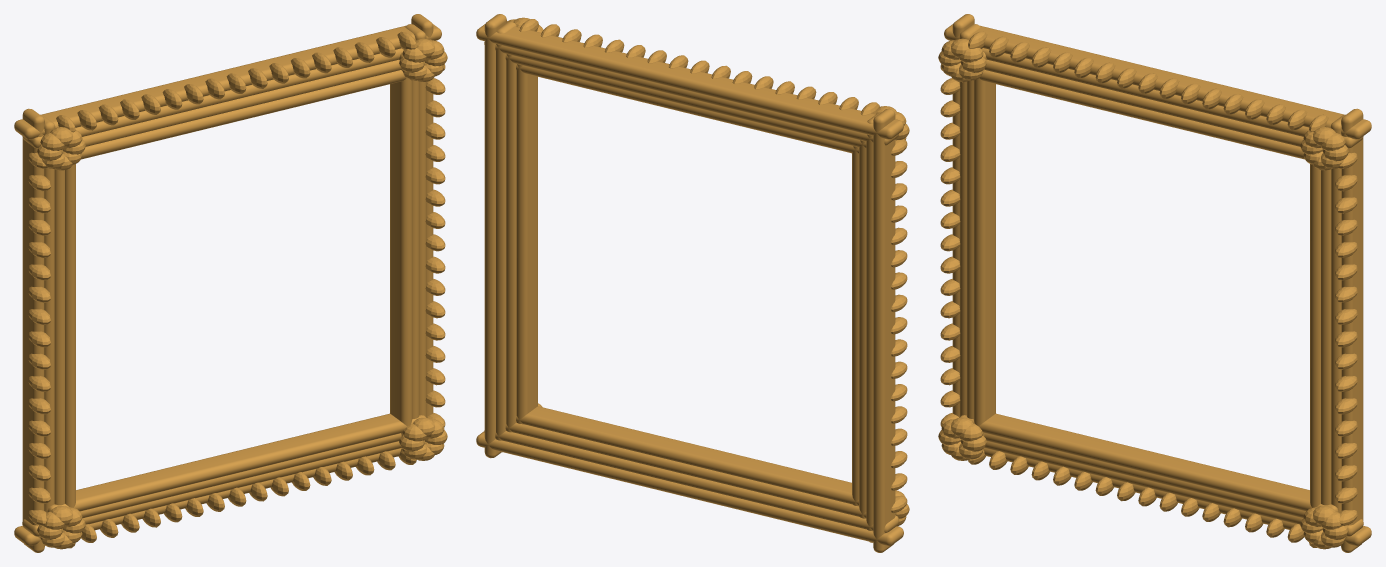
The model's file is portal-frame.glb.
The picture shows the model from 3 angles, left to right: view 1: azimuth 30°, elevation 25°; view 2: azimuth 150°, elevation 25°; view 3: azimuth 330°, elevation 25°; orthographic projection.
Visible parts, largest first — view 1: Sculpted frame upright.001, Sculpted frame lintel, Sculpted frame upright.006, Sculpted frame lintel.007, Sculpted frame lintel.001, Sculpted frame upright, Sculpted frame upright.002, Sculpted frame lintel.003, Sculpted frame upright.004, Sculpted frame lintel.005, Sculpted frame upright.005, Sculpted frame lintel.004 (+4 smaller); view 2: Sculpted frame upright.006, Sculpted frame lintel.007, Sculpted frame upright.001, Sculpted frame lintel, Sculpted frame upright.007, Sculpted frame lintel.006, Sculpted frame upright.005, Sculpted frame lintel.004, Sculpted frame upright.003, Sculpted frame lintel.002, Sculpted frame upright.004, Sculpted frame lintel.005 (+4 smaller); view 3: Sculpted frame upright, Sculpted frame lintel, Sculpted frame upright.007, Sculpted frame lintel.007, Sculpted frame lintel.001, Sculpted frame upright.001, Sculpted frame upright.003, Sculpted frame lintel.003, Sculpted frame upright.005, Sculpted frame lintel.005, Sculpted frame upright.004, Sculpted frame lintel.004 (+4 smaller).
Boxes of the visible parts, x1,y1,x2,y2 form: Sculpted frame upright.001: (390, 52, 412, 436); Sculpted frame lintel: (47, 413, 426, 511); Sculpted frame upright.006: (22, 108, 44, 552); Sculpted frame lintel.007: (14, 24, 441, 139); Sculpted frame lintel.001: (81, 70, 406, 159); Sculpted frame upright: (65, 164, 75, 507); Sculpted frame upright.002: (54, 169, 64, 505); Sculpted frame lintel.003: (82, 59, 401, 146); Sculpted frame upright.004: (40, 114, 55, 512); Sculpted frame lintel.005: (22, 48, 403, 148); Sculpted frame upright.005: (405, 24, 426, 416); Sculpted frame lintel.004: (22, 441, 401, 536); Sculpted frame upright.006: (873, 108, 895, 552); Sculpted frame lintel.007: (476, 24, 903, 139); Sculpted frame upright.001: (516, 64, 537, 424); Sculpted frame lintel: (516, 406, 858, 505); Sculpted frame upright.007: (484, 14, 506, 458); Sculpted frame lintel.006: (476, 431, 903, 545); Sculpted frame upright.005: (496, 21, 516, 452); Sculpted frame lintel.004: (484, 430, 898, 532); Sculpted frame upright.003: (506, 54, 516, 432); Sculpted frame lintel.002: (505, 422, 866, 517); Sculpted frame upright.004: (866, 112, 880, 542); Sculpted frame lintel.005: (484, 42, 898, 145); Sculpted frame upright: (973, 52, 995, 436); Sculpted frame lintel: (959, 413, 1338, 511); Sculpted frame upright.007: (1341, 108, 1363, 552); Sculpted frame lintel.007: (944, 24, 1371, 139); Sculpted frame lintel.001: (979, 70, 1304, 159); Sculpted frame upright.001: (1310, 164, 1320, 507); Sculpted frame upright.003: (1321, 169, 1331, 505); Sculpted frame lintel.003: (984, 59, 1303, 146); Sculpted frame upright.005: (1330, 114, 1345, 512); Sculpted frame lintel.005: (981, 48, 1363, 148); Sculpted frame upright.004: (959, 24, 980, 416); Sculpted frame lintel.004: (984, 441, 1363, 536).
Size of the model in its own units: 1.29 by 1.29 by 0.152.
